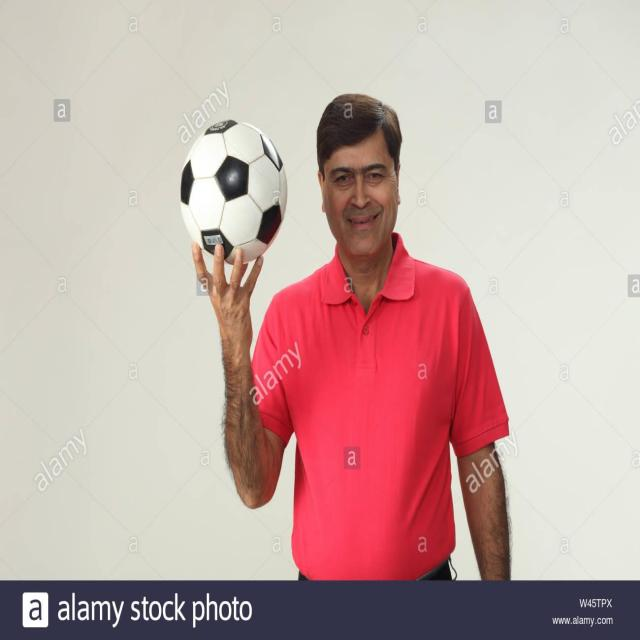Soccer Ball: (182, 120, 288, 267)
